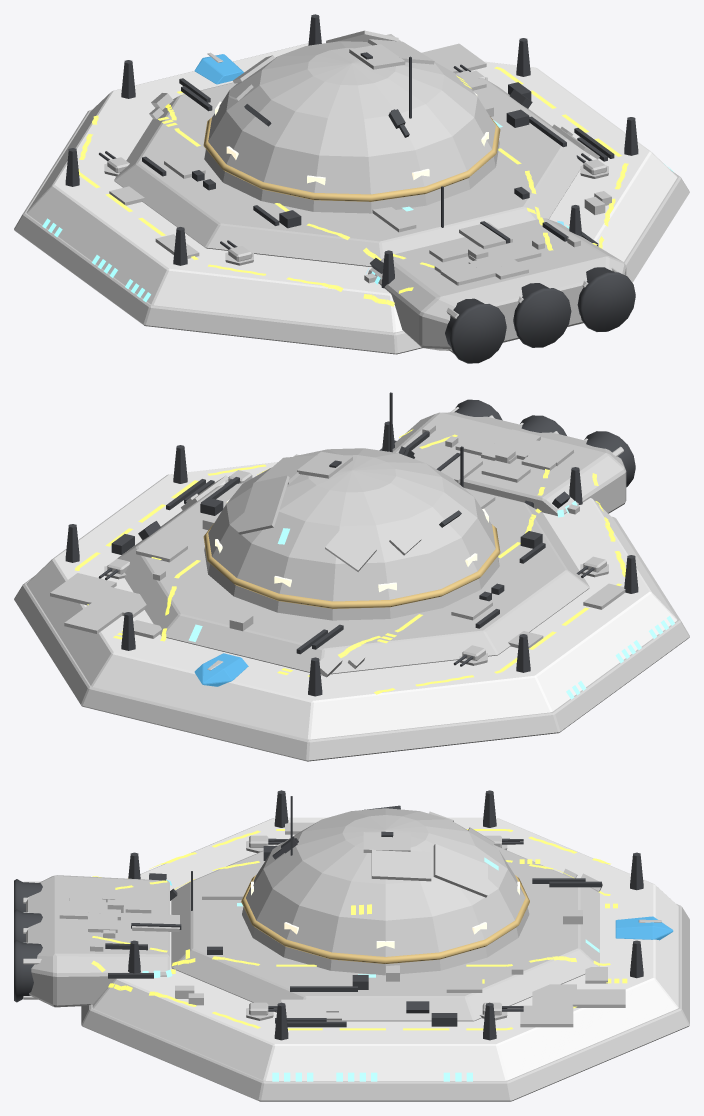
Rendered from argus.glb.
The picture shows the model from 3 angles, top to bottom: view 1: azimuth 30°, elevation 25°; view 2: azimuth 150°, elevation 25°; view 3: azimuth 270°, elevation 25°; orthographic projection. The views are drawn at different scales.
Visible parts, largest first — view 1: Диск, Купол_ПРО, Ярус, Корма, Борт_диска, Накладные_плиты, Механика, Разметка, Кожух_дюзы.002, Кожух_дюзы.001, Кожух_дюзы, Пояс_купола (+2 smaller); view 2: Диск, Купол_ПРО, Ярус, Накладные_плиты, Борт_диска, Корма, Механика, Разметка, Пояс_купола, Кабина, Кожух_дюзы.002, Решётки (+2 smaller); view 3: Диск, Купол_ПРО, Ярус, Накладные_плиты, Борт_диска, Корма, Механика, Разметка, Пояс_купола, Кожух_дюзы.001, Решётки, Кабина (+2 smaller).
Boxes of the visible parts, box(x1,y1,x2,y2) form: Диск: box(26, 43, 677, 332); Купол_ПРО: box(204, 41, 499, 213); Ярус: box(114, 78, 589, 266); Корма: box(368, 218, 626, 350); Борт_диска: box(14, 109, 689, 354); Накладные_плиты: box(109, 30, 611, 285); Механика: box(142, 52, 614, 273); Разметка: box(78, 66, 628, 306); Кожух_дюзы.002: box(445, 298, 506, 363); Кожух_дюзы.001: box(577, 267, 635, 331); Кожух_дюзы: box(513, 283, 571, 347); Пояс_купола: box(203, 116, 500, 201); Диск: box(26, 462, 677, 739); Купол_ПРО: box(204, 448, 499, 620); Ярус: box(117, 483, 589, 675); Накладные_плиты: box(50, 424, 625, 677); Борт_диска: box(14, 516, 689, 761); Корма: box(389, 412, 626, 515); Механика: box(111, 392, 570, 654); Разметка: box(75, 429, 625, 694); Пояс_купола: box(203, 524, 500, 608); Кабина: box(194, 653, 248, 686); Кожух_дюзы.002: box(584, 431, 635, 487); Решётки: box(188, 501, 674, 699); Диск: box(92, 817, 678, 1080); Купол_ПРО: box(242, 808, 529, 975); Ярус: box(171, 842, 599, 1021); Накладные_плиты: box(59, 811, 625, 1027); Борт_диска: box(81, 904, 689, 1101); Корма: box(26, 875, 169, 1007); Механика: box(105, 796, 601, 1027); Разметка: box(91, 829, 627, 1030); Пояс_купола: box(241, 875, 529, 963); Кожух_дюзы.001: box(14, 940, 42, 1002); Решётки: box(142, 857, 599, 1081); Кабина: box(615, 916, 673, 940).
Bounding box in the file's own units: 1.69 × 0.6264 × 1.88.
